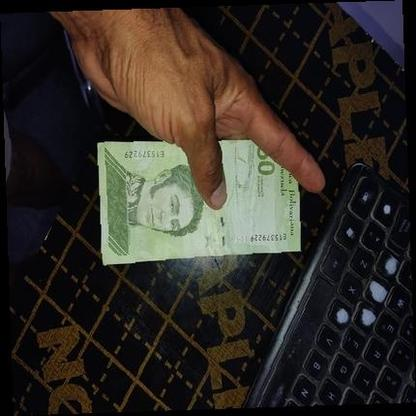fifty-front-vef: (96, 134, 302, 266)
